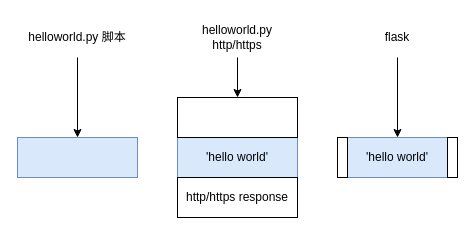
This 475x235 diagram has some shape labels left out. The shapes that lost their labels are listed below. From the top down, each one's box as (x1, y1, x2, y2) in pixels, then its label:
(176, 96, 298, 138): http/https request
(16, 136, 138, 178): print('hello world')
